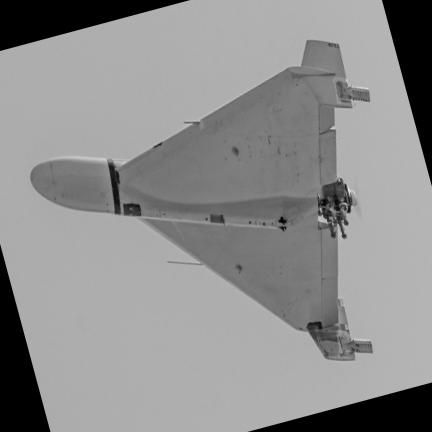Shahed: (30, 40, 369, 361)
